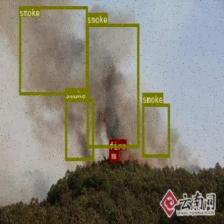smoke: (86, 23, 139, 147), (18, 5, 88, 95), (65, 98, 94, 160), (142, 103, 170, 157)
